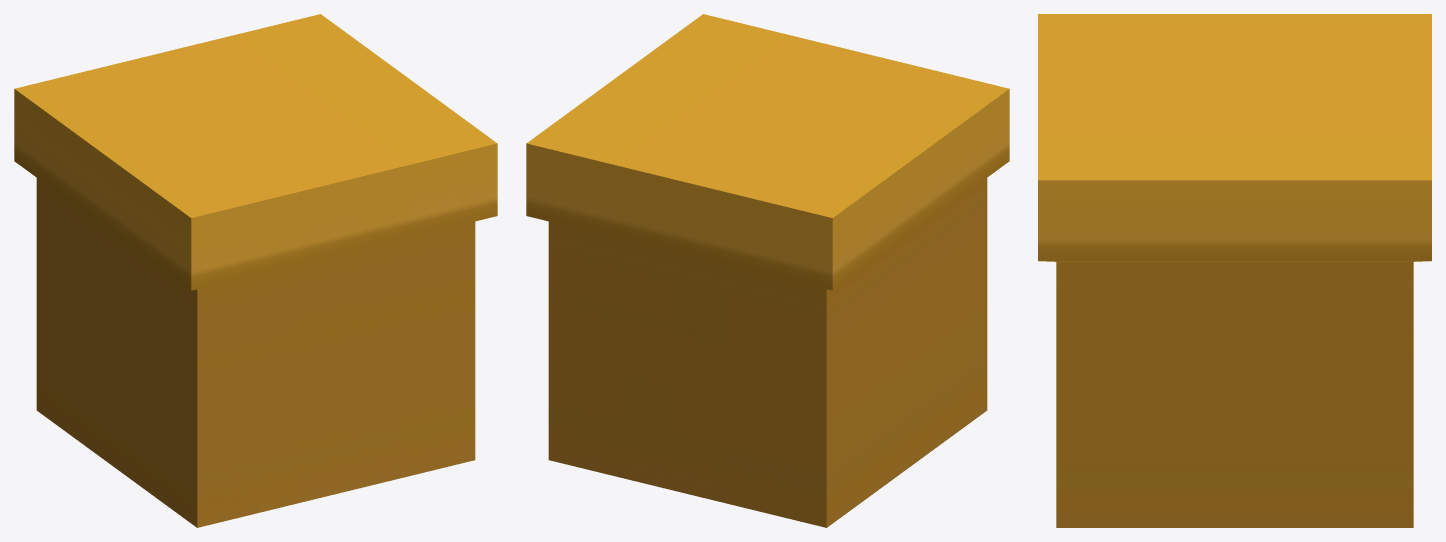
File: SoloIlha_areia.glb
The picture shows the model from 3 angles, left to right: view 1: azimuth 30°, elevation 25°; view 2: azimuth 150°, elevation 25°; view 3: azimuth 270°, elevation 25°; orthographic projection. The views are drawn at different scales.
Visible parts, largest first — view 1: SoloIlha_areia; view 2: SoloIlha_areia; view 3: SoloIlha_areia.
Boxes of the visible parts, x1,y1,x2,y2 form: SoloIlha_areia: [14, 14, 497, 527]; SoloIlha_areia: [526, 14, 1009, 527]; SoloIlha_areia: [1038, 14, 1431, 527].
Bounding box in the file's own units: 2 × 1.99 × 2.
Materials: 1 (1 with a texture image).
